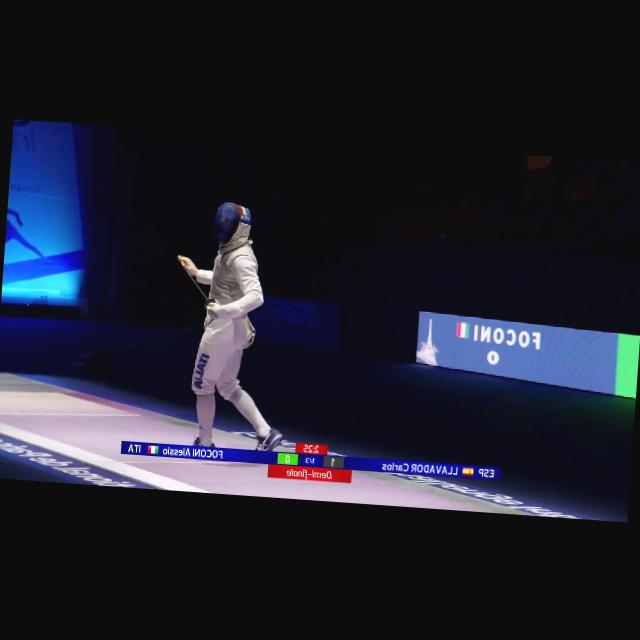blade: (172, 254, 226, 311)
